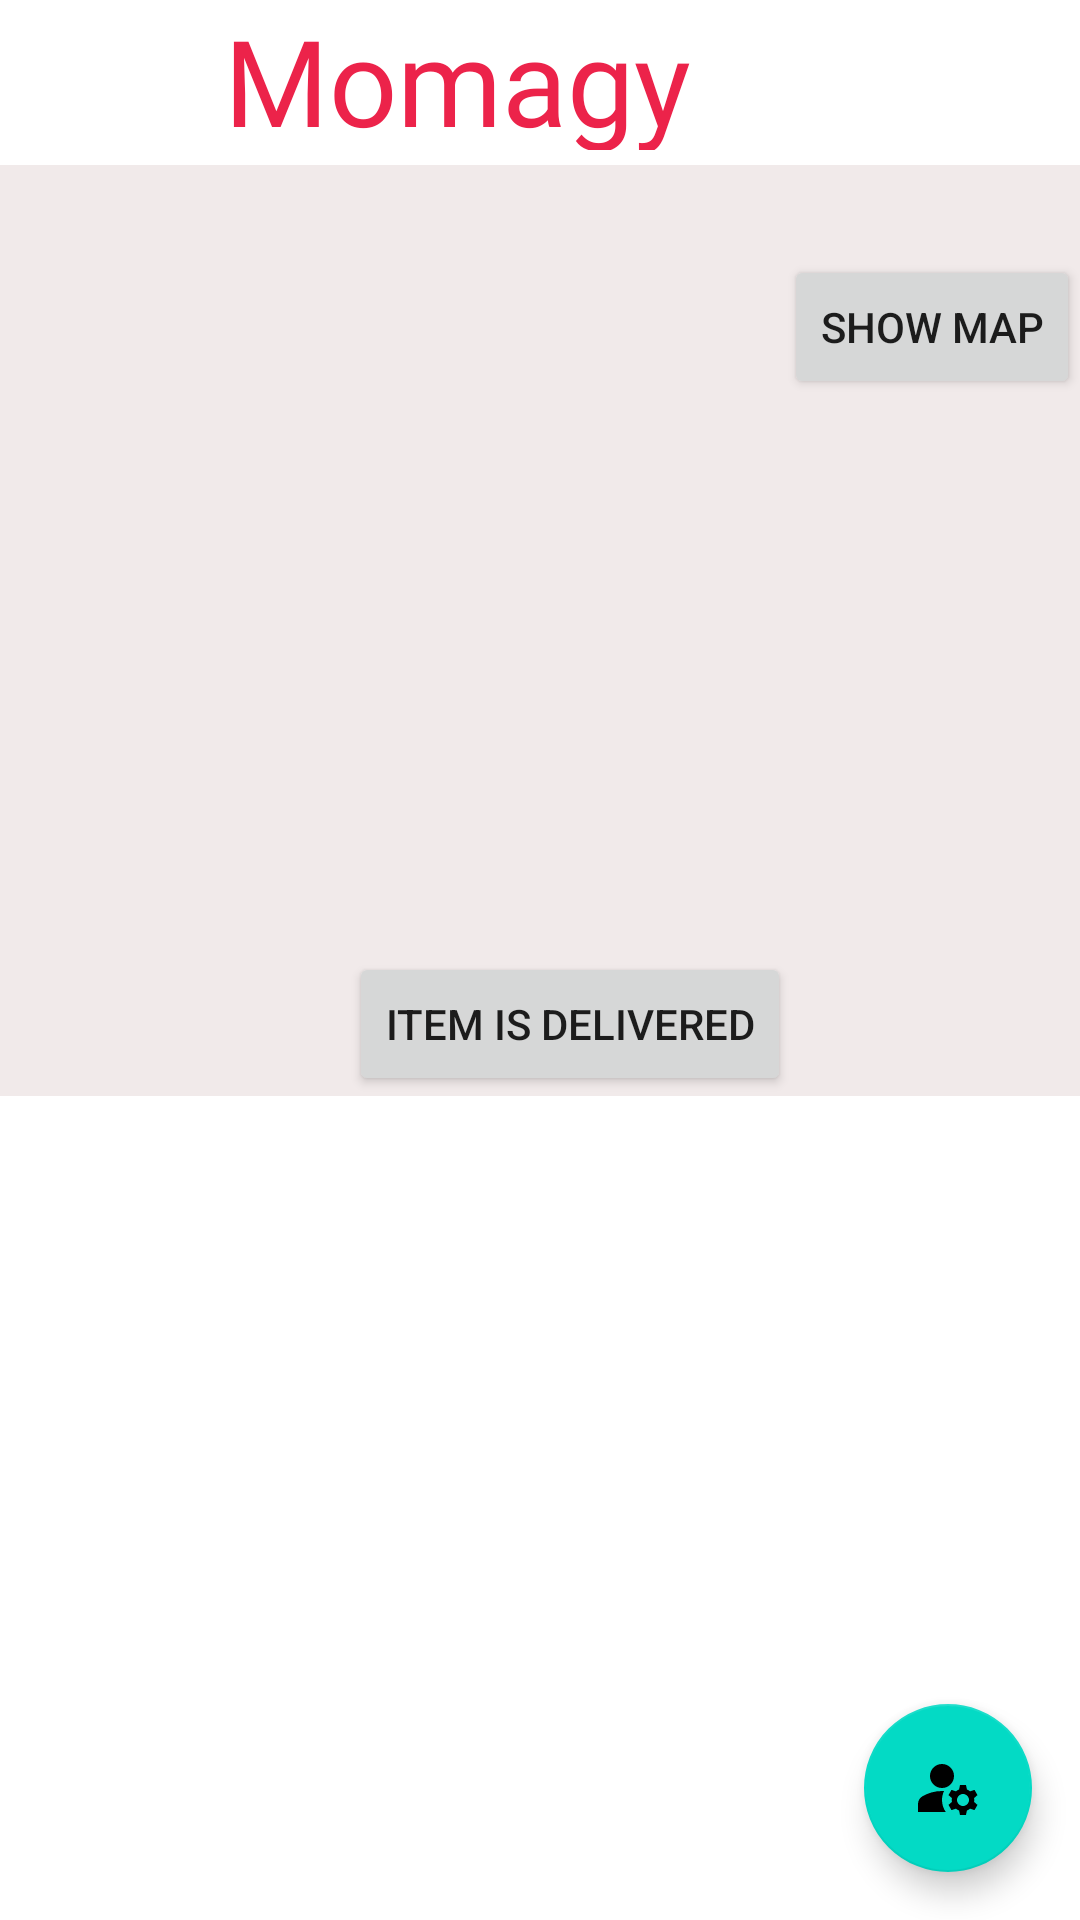

Screen size 1080w x 1920h. Icon name, then its box in pixels as (x1, y1, x2, y2):
manage accounts: (864, 1704, 1032, 1872)
